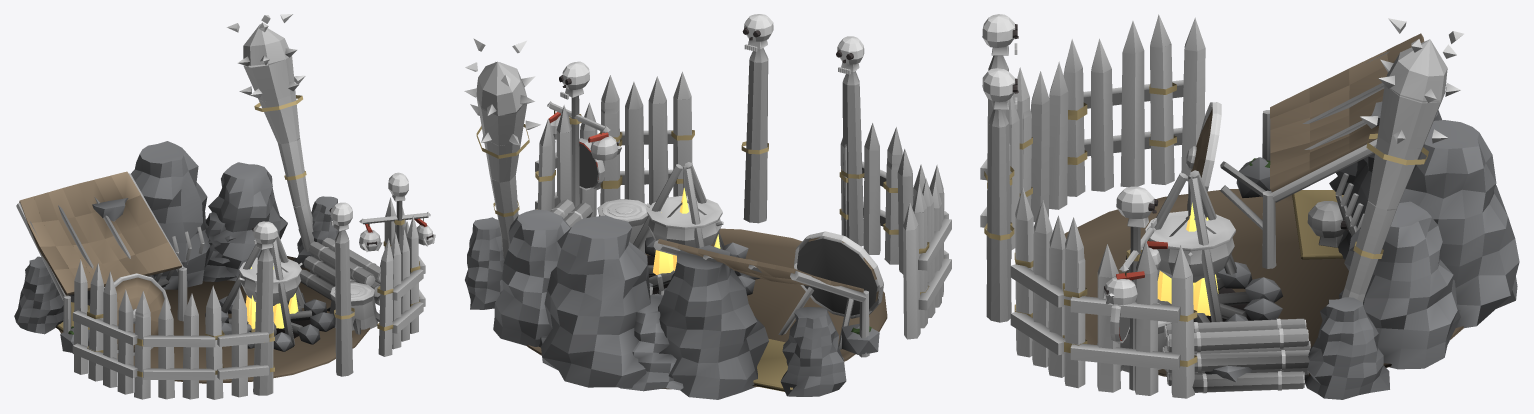
Rendered from gigantes-camp-l2.glb.
The picture shows the model from 3 angles, left to right: view 1: azimuth 30°, elevation 25°; view 2: azimuth 150°, elevation 25°; view 3: azimuth 270°, elevation 25°; orthographic projection. The views are drawn at different scales.
Parts seen in each view (by area): view 1: gigantes-camp-l2; view 2: gigantes-camp-l2; view 3: gigantes-camp-l2.
Part boxes in pixels (box(x1,y1,x2,y2)): gigantes-camp-l2: box(14, 14, 435, 399); gigantes-camp-l2: box(464, 14, 951, 399); gigantes-camp-l2: box(980, 14, 1519, 399).
Size of the model in its own units: 1.65 by 1.14 by 1.58.
